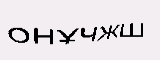Ж: (98, 24, 120, 41)
Н: (31, 24, 56, 46)
О: (5, 25, 30, 45)
Ч: (79, 24, 98, 41)
Ш: (117, 18, 149, 40)
Ұ: (55, 26, 79, 46)
